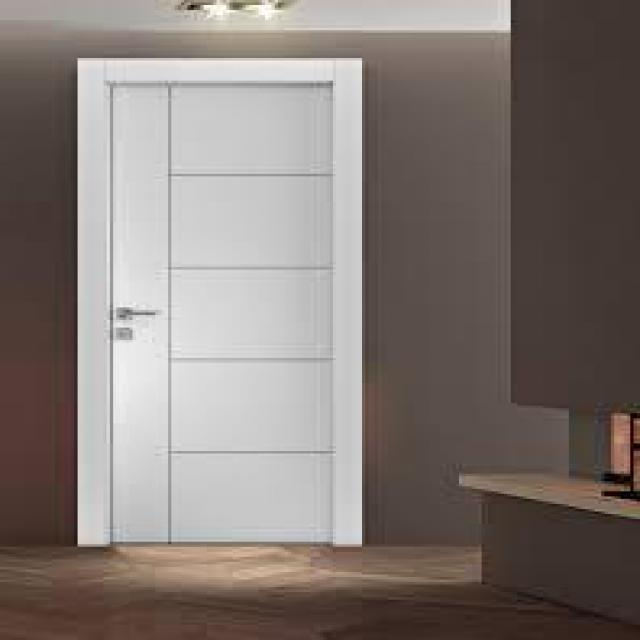door: (106, 81, 336, 543)
